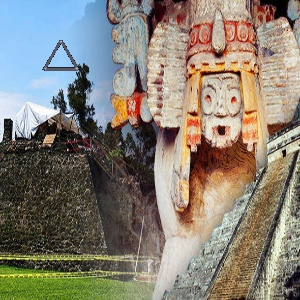triangle: (40, 37, 82, 72)
